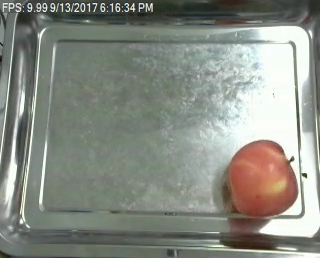Apple: (226, 139, 299, 218)
